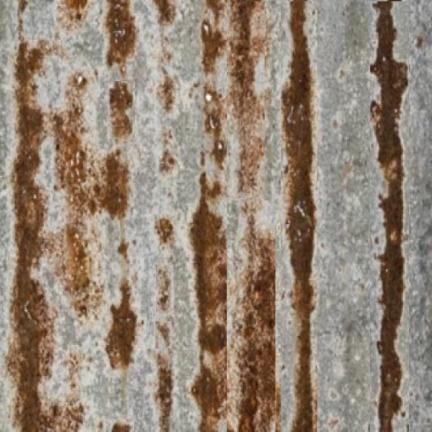besi_tidak_karat: (312, 0, 371, 431), (404, 0, 431, 430), (277, 173, 296, 430), (265, 0, 281, 209), (279, 1, 292, 65)
karat: (44, 61, 128, 321), (8, 27, 53, 431), (370, 1, 407, 431), (281, 0, 316, 431), (190, 172, 225, 431), (234, 213, 275, 431), (227, 0, 263, 192), (154, 267, 172, 431), (106, 280, 136, 369), (26, 386, 83, 430), (105, 0, 136, 76), (205, 84, 225, 167), (109, 82, 132, 142), (202, 20, 225, 72), (59, 0, 87, 28), (159, 72, 174, 111), (153, 0, 174, 24), (155, 217, 173, 244), (211, 139, 226, 165)
